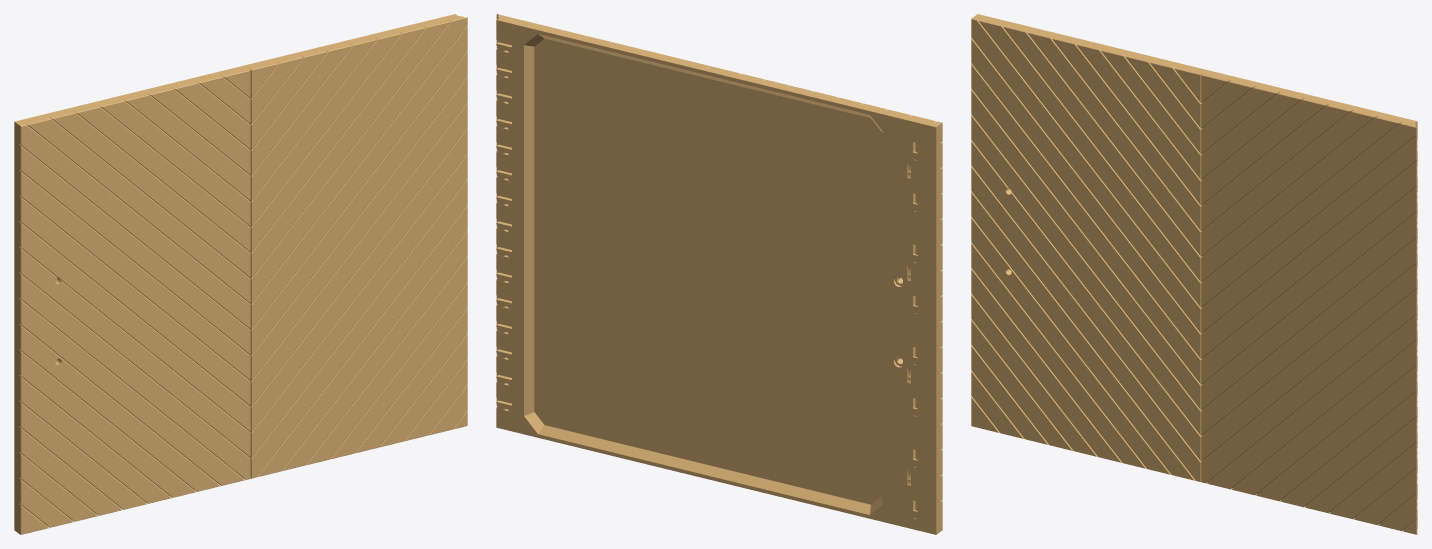
File: Door_Chevron_3W-4H_RH.lib.glb
The picture shows the model from 3 angles, left to right: view 1: azimuth 30°, elevation 25°; view 2: azimuth 150°, elevation 25°; view 3: azimuth 330°, elevation 25°; orthographic projection.
Visible parts, largest first — view 1: Door_Chevron_3W-4H_RH; view 2: Door_Chevron_3W-4H_RH; view 3: Door_Chevron_3W-4H_RH.
Boxes of the visible parts, left/top/right/bottom form: Door_Chevron_3W-4H_RH: left=14, top=14, right=467, bottom=534; Door_Chevron_3W-4H_RH: left=496, top=14, right=942, bottom=534; Door_Chevron_3W-4H_RH: left=971, top=14, right=1417, bottom=534.
Size of the model in its own units: 255 by 223 by 6.51.
